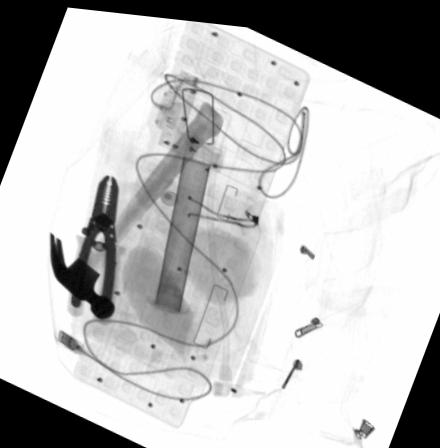Hammer: (47, 96, 222, 318)
Pliers: (64, 171, 127, 323)
